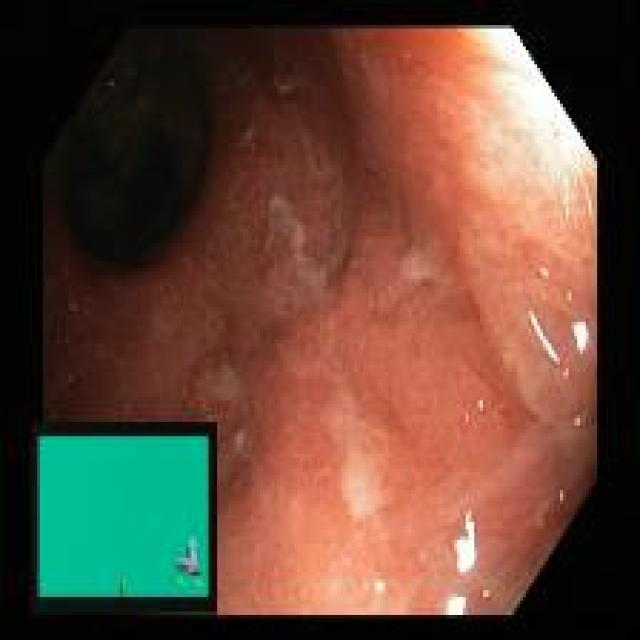ulcerative-colitis: (45, 28, 595, 616)
